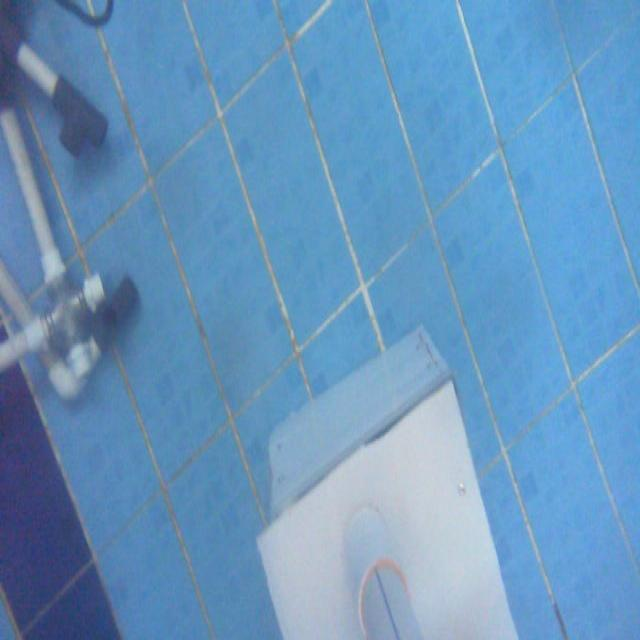Cube: (254, 322, 525, 638)
